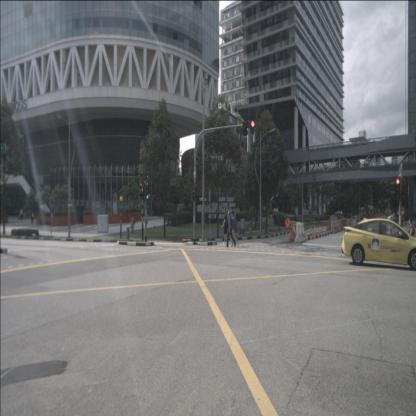human-pedestrian-adult: (226, 211, 236, 248), (230, 211, 240, 247), (407, 218, 415, 262), (221, 214, 228, 245), (130, 215, 135, 233), (254, 212, 258, 231), (31, 210, 34, 224)
movable_object-barrier: (289, 223, 302, 242), (295, 222, 305, 243), (326, 220, 334, 233), (331, 220, 337, 232), (335, 220, 341, 232), (342, 219, 346, 230), (340, 220, 344, 230), (346, 218, 350, 228)
movable_object-trafficcone: (307, 228, 311, 240), (318, 226, 322, 237), (316, 226, 319, 238), (303, 230, 306, 242), (313, 227, 316, 238), (310, 227, 312, 240)
vehicle-car: (342, 216, 416, 272), (386, 212, 398, 225)
